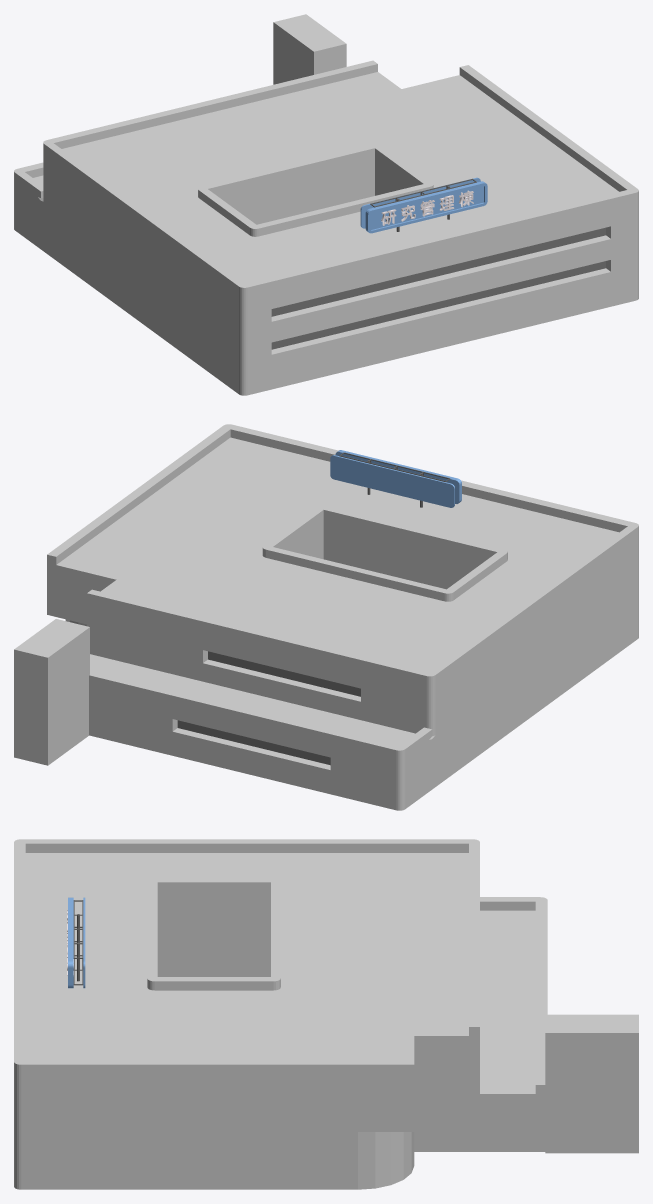
Rendered from map_administration.glb.
3 views of the same model, one above another, from view 1: azimuth 30°, elevation 25°; view 2: azimuth 150°, elevation 25°; view 3: azimuth 270°, elevation 25° (orthographic). The views are drawn at different scales.
Visible parts, largest first — view 1: 研究管理棟, 研究管理棟通路, Cube.010, テキスト.007; view 2: 研究管理棟, 研究管理棟通路, Cube.011, Cube.010; view 3: 研究管理棟, 研究管理棟通路, Cube.010.
Boxes of the visible parts, x1,y1,x2,y2 form: 研究管理棟: [14, 60, 638, 395]; 研究管理棟通路: [273, 14, 346, 84]; Cube.010: [365, 181, 487, 233]; テキスト.007: [381, 190, 473, 225]; 研究管理棟: [47, 424, 638, 810]; 研究管理棟通路: [14, 619, 89, 765]; Cube.011: [330, 455, 454, 507]; Cube.010: [335, 450, 461, 503]; 研究管理棟: [14, 839, 547, 1189]; 研究管理棟通路: [545, 1014, 638, 1153]; Cube.010: [68, 897, 73, 988].
Bounding box in the file's own units: 37.14 × 11.81 × 43.5.
